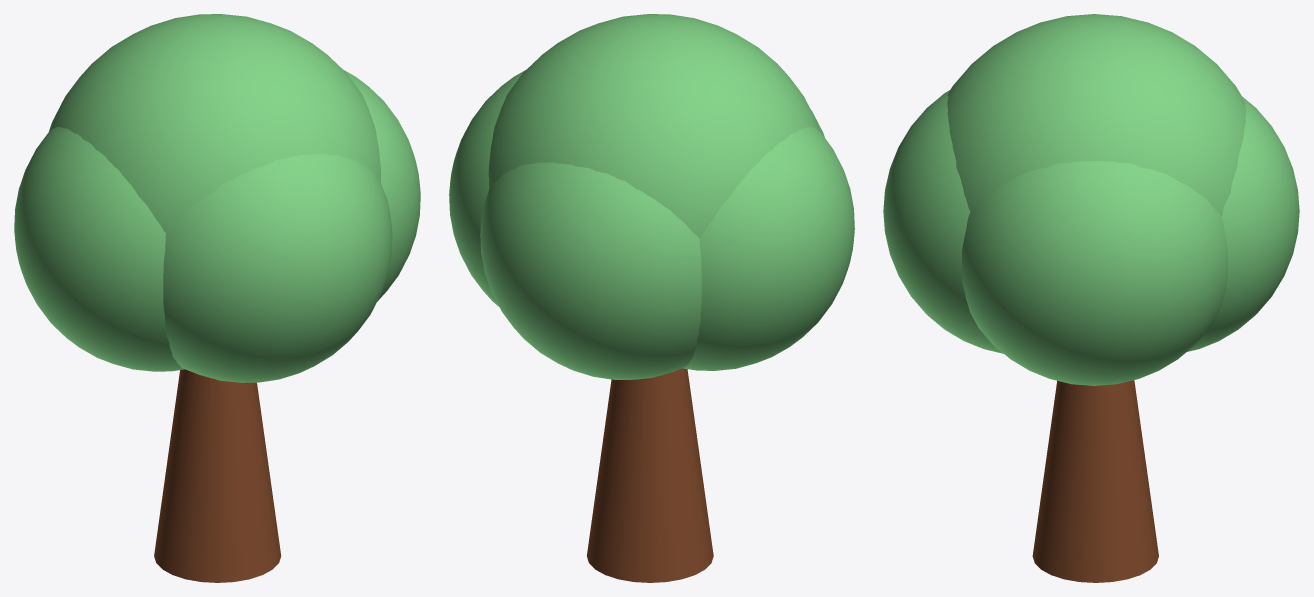
Rendered from DisgustLv1.glb.
3 views of the same model, side by side, from view 1: azimuth 30°, elevation 25°; view 2: azimuth 150°, elevation 25°; view 3: azimuth 270°, elevation 25° (orthographic).
Parts seen in each view (by area): view 1: GeoSphere057, GeoSphere061, GeoSphere059, Cone216, GeoSphere058; view 2: GeoSphere057, GeoSphere060, GeoSphere059, Cone216, GeoSphere058; view 3: GeoSphere058, GeoSphere057, Cone216, GeoSphere061, GeoSphere060.
Part boxes in pixels (left/top/right/bottom): GeoSphere057: left=49, top=14, right=381, bottom=233; GeoSphere061: left=163, top=154, right=392, bottom=382; GeoSphere059: left=14, top=127, right=184, bottom=371; Cone216: left=154, top=369, right=281, bottom=582; GeoSphere058: left=344, top=70, right=420, bottom=301; GeoSphere057: left=488, top=14, right=820, bottom=238; GeoSphere060: left=480, top=162, right=701, bottom=379; GeoSphere059: left=683, top=126, right=854, bottom=370; Cone216: left=587, top=368, right=713, bottom=582; GeoSphere058: left=449, top=70, right=525, bottom=306; GeoSphere058: left=962, top=161, right=1228, bottom=385; GeoSphere057: left=947, top=14, right=1246, bottom=216; Cone216: left=1032, top=380, right=1158, bottom=582; GeoSphere061: left=883, top=90, right=1003, bottom=353; GeoSphere060: left=1187, top=97, right=1299, bottom=351.
Size of the model in its own units: 0.3704 by 0.5074 by 0.3653.
